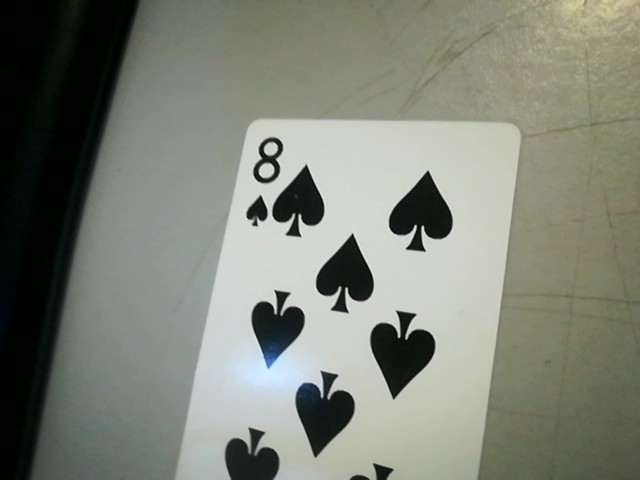ht 8: (235, 126, 293, 233)
